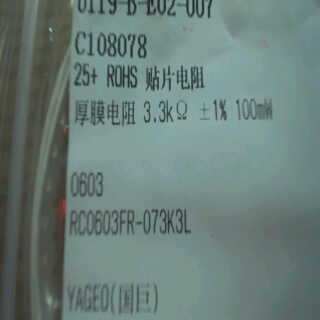3.3kO: (141, 93, 193, 133)
